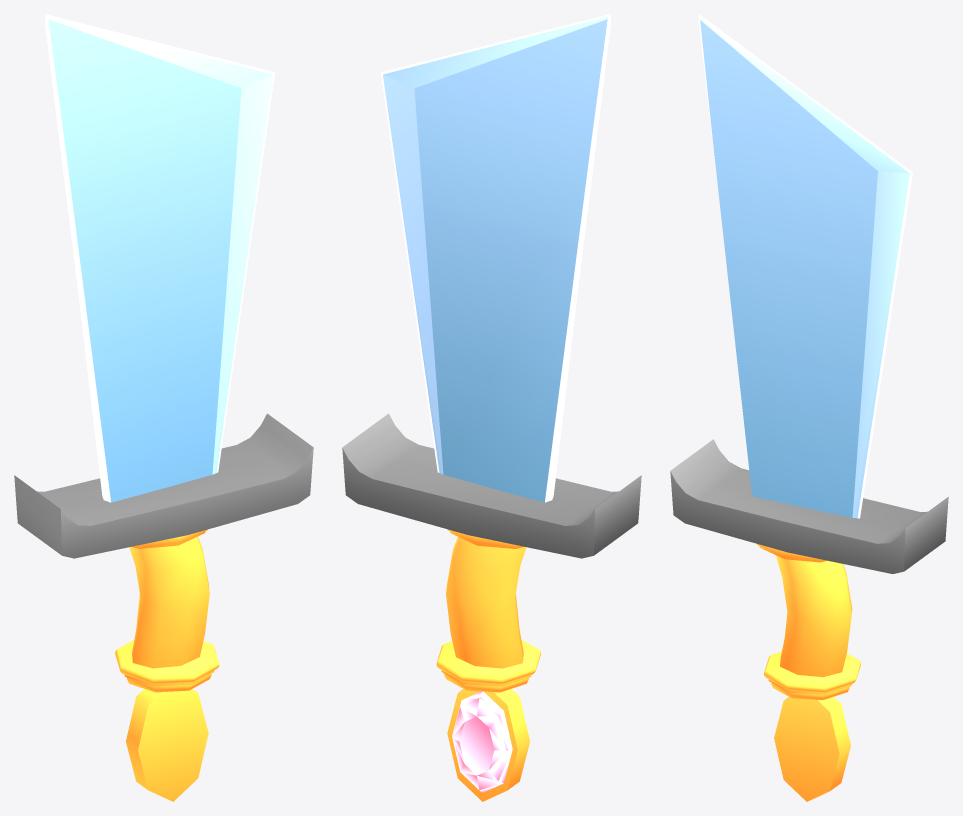
File: example_sword_018.glb
3 renders of one model, left to right at view 1: azimuth 30°, elevation 25°; view 2: azimuth 150°, elevation 25°; view 3: azimuth 330°, elevation 25°, orthographic. The views are drawn at different scales.
Parts seen in each view (by area): view 1: example_sword.018; view 2: example_sword.018; view 3: example_sword.018.
Boxes of the visible parts, left/top/right/bottom form: example_sword.018: left=14, top=14, right=313, bottom=801; example_sword.018: left=342, top=14, right=641, bottom=801; example_sword.018: left=670, top=14, right=948, bottom=801.
Size of the model in its own units: 6.1 by 18.73 by 2.26.
1 material, 1 textured.
